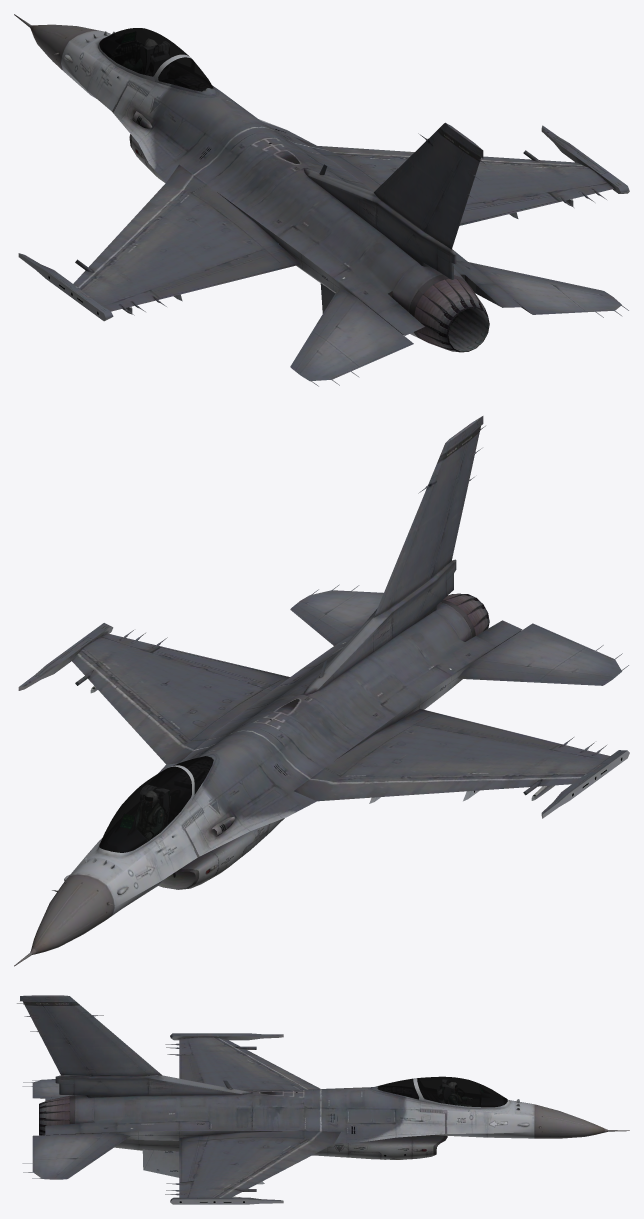
3 renders of one model, top to bottom at view 1: azimuth 30°, elevation 25°; view 2: azimuth 150°, elevation 25°; view 3: azimuth 270°, elevation 25°, orthographic. The views are drawn at different scales.
Parts seen in each view (by area): view 1: LOD0_0, ElevatorL01_16, EngineL01_17, ElevatorR01_7, AileronL01_9, Glass_Canopy01_2, VoletL01_15, RudderL01_18, AileronR01_8, VoletR01_14, Canopy01_1, Glass01_5 (+3 smaller); view 2: LOD0_0, ElevatorL01_16, Glass_Canopy01_2, VoletL01_15, VoletR01_14, ElevatorR01_7, AileronL01_9, AileronR01_8, RudderL01_18, Canopy01_1, Pilot_4, EngineL01_17; view 3: LOD0_0, ElevatorR01_7, Glass_Canopy01_2, RudderL01_18, VoletR01_14, AileronR01_8, Canopy01_1, EngineL01_17, VoletL01_15, ElevatorL01_16, AileronL01_9, Glass01_5 (+1 smaller).
Part boxes in pixels (box(x1,y1,x2,y2)): LOD0_0: box(14, 14, 629, 340); ElevatorL01_16: box(290, 288, 413, 386); EngineL01_17: box(414, 279, 489, 352); ElevatorR01_7: box(468, 262, 628, 317); AileronL01_9: box(150, 244, 300, 299); Glass_Canopy01_2: box(99, 28, 190, 76); VoletL01_15: box(73, 182, 186, 289); RudderL01_18: box(425, 149, 485, 249); AileronR01_8: box(459, 192, 560, 225); VoletR01_14: box(318, 146, 585, 166); Canopy01_1: box(86, 36, 192, 92); Glass01_5: box(158, 57, 213, 91); LOD0_0: box(14, 416, 629, 966); ElevatorL01_16: box(457, 623, 628, 685); Glass_Canopy01_2: box(99, 766, 191, 852); VoletL01_15: box(317, 774, 585, 801); VoletR01_14: box(71, 651, 187, 764); ElevatorR01_7: box(290, 584, 383, 645); AileronL01_9: box(397, 709, 559, 749); AileronR01_8: box(150, 646, 289, 690); RudderL01_18: box(433, 426, 485, 576); Canopy01_1: box(86, 765, 205, 866); Pilot_4: box(136, 791, 163, 840); EngineL01_17: box(443, 593, 489, 635); LOD0_0: box(20, 995, 629, 1204); ElevatorR01_7: box(22, 1133, 130, 1179); Glass_Canopy01_2: box(417, 1076, 507, 1107); RudderL01_18: box(17, 1001, 90, 1075); VoletR01_14: box(215, 1139, 333, 1197); AileronR01_8: box(179, 1135, 209, 1182); Canopy01_1: box(409, 1078, 513, 1113); EngineL01_17: box(39, 1096, 69, 1135); VoletL01_15: box(215, 1038, 320, 1089); ElevatorL01_16: box(22, 1079, 73, 1098); AileronL01_9: box(179, 1055, 203, 1082); Glass01_5: box(378, 1078, 418, 1099).
Size of the model in its own units: 5.83 by 2.82 by 9.14.
Materials: 4 (3 with a texture image).
